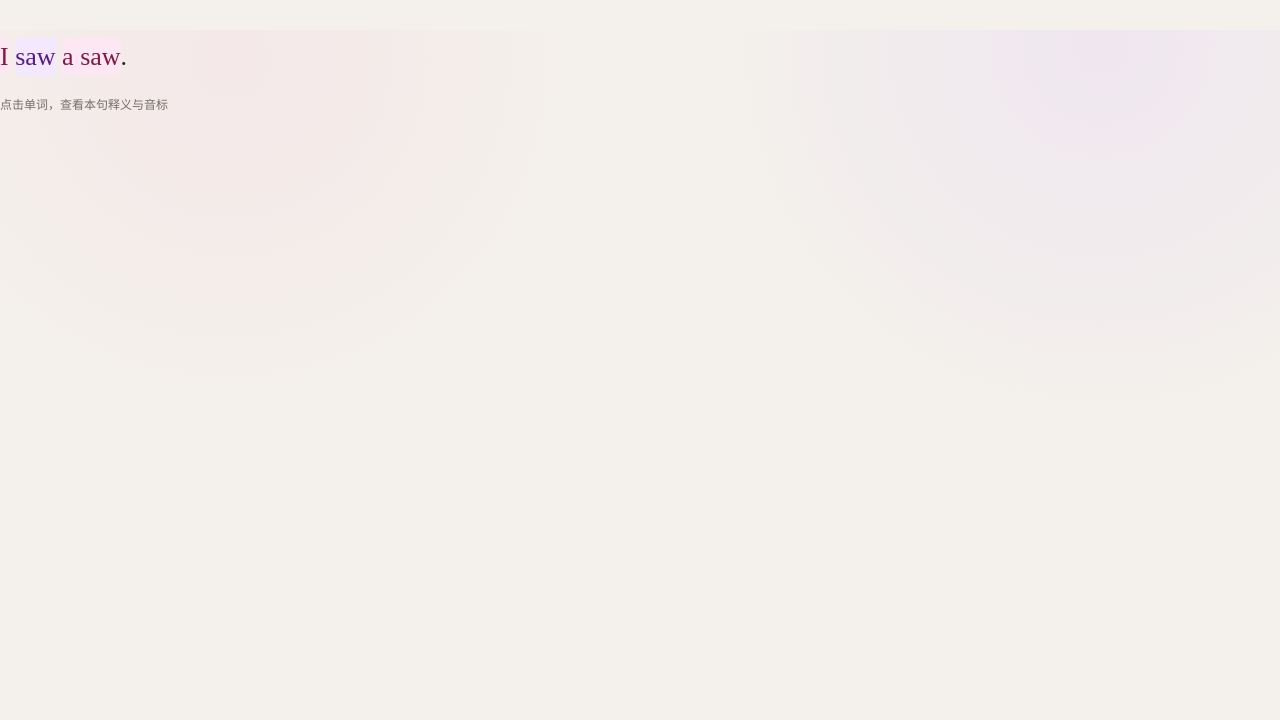
does not let stale A overwrite B or reopen a closed popover
Click the button with aria-label "查询 saw": coordinates (35, 57) [15,30,56,85]
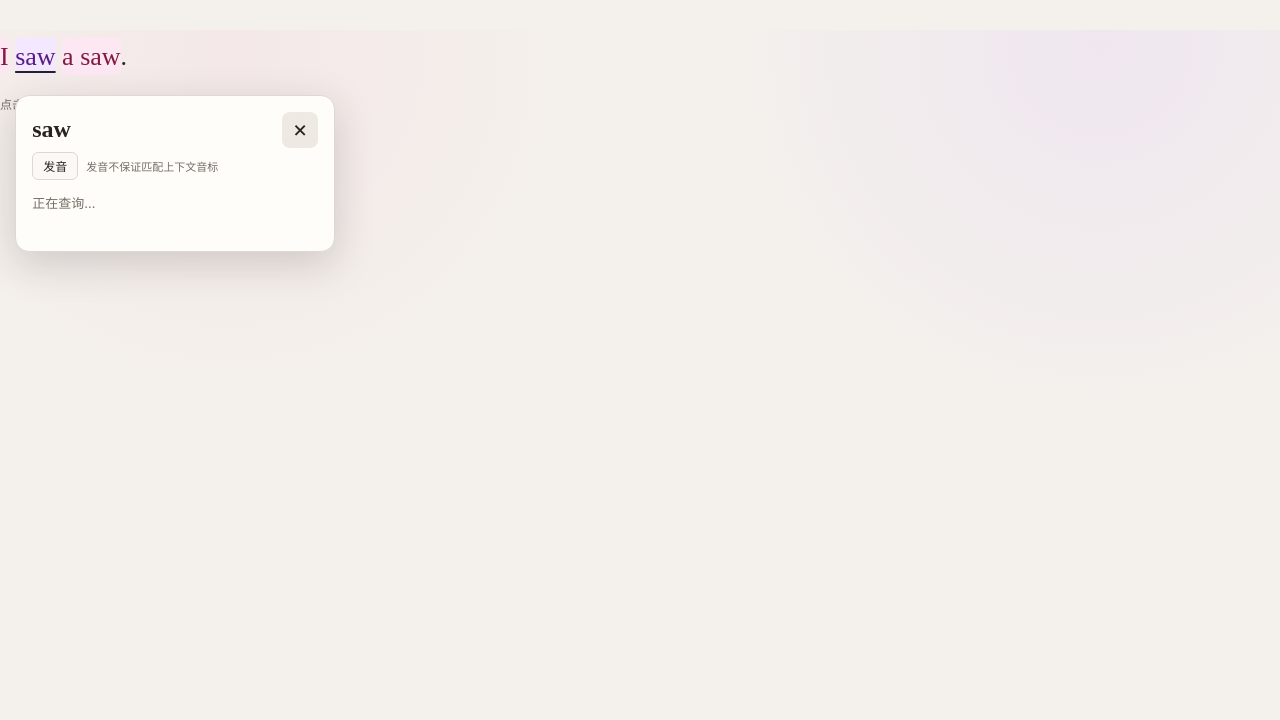
Click the button with aria-label "查询 saw": coordinates (100, 57) [80,30,121,85]
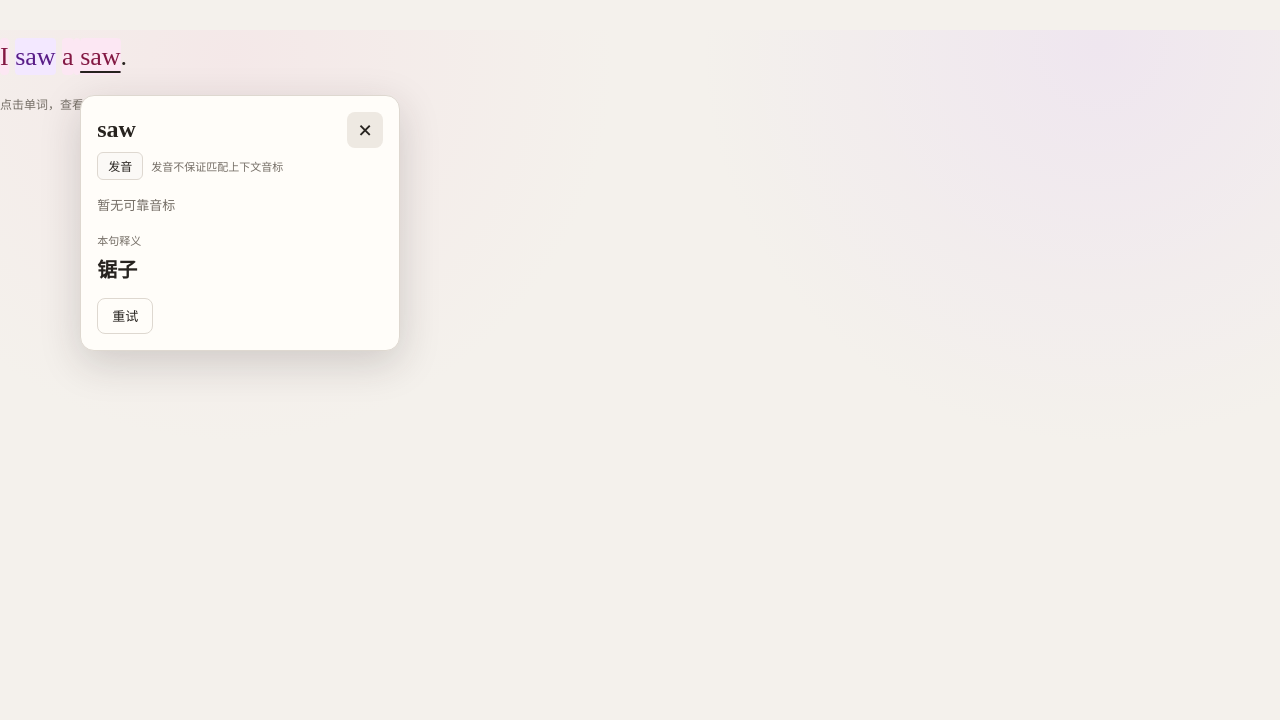
Now the text "锯子" is shown, box [97,258,137,282]
Click the button named "关闭查词": coordinates (365, 130) [347,112,383,148]
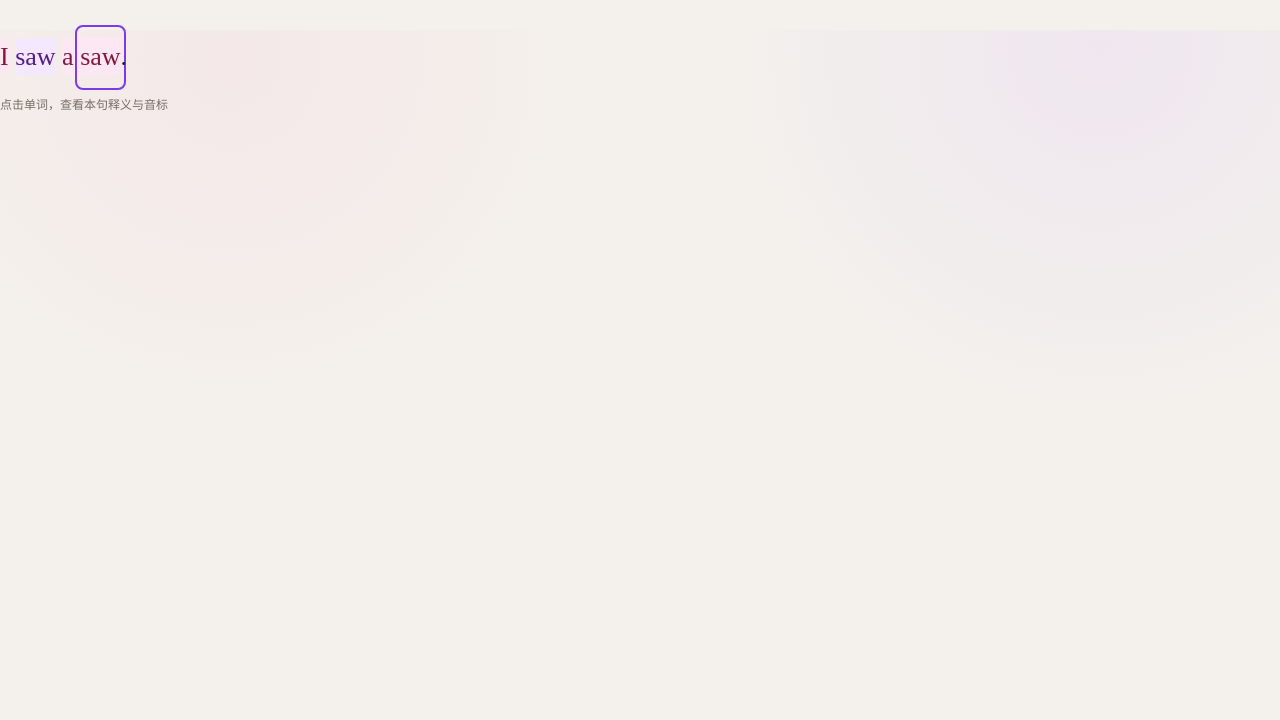
Click the button with aria-label "查询 saw": coordinates (35, 57) [15,30,56,85]
(page scrolled)
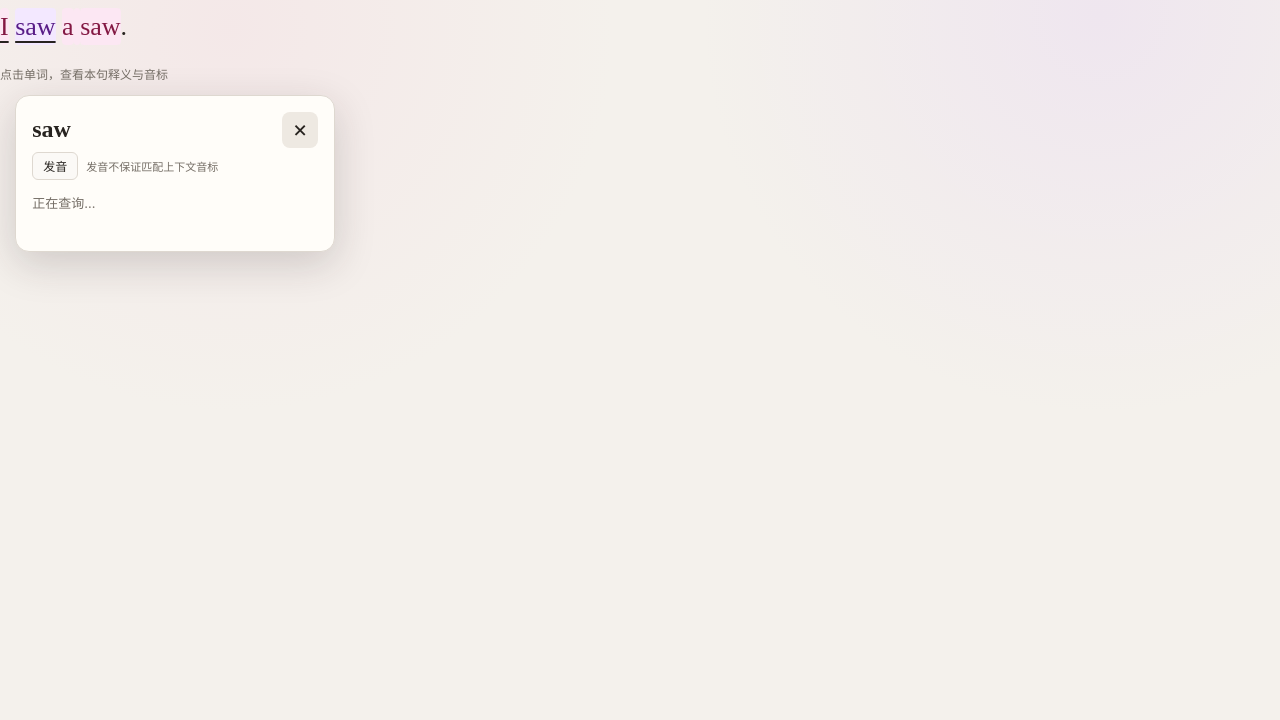
Press the mouse on the element showing "I saw a saw . 点击单词，查看本句释义与音标 saw × 发音 发音不保证匹配上下文音标 正在查询…": coordinates (640, 360) [0,0,1279,719]
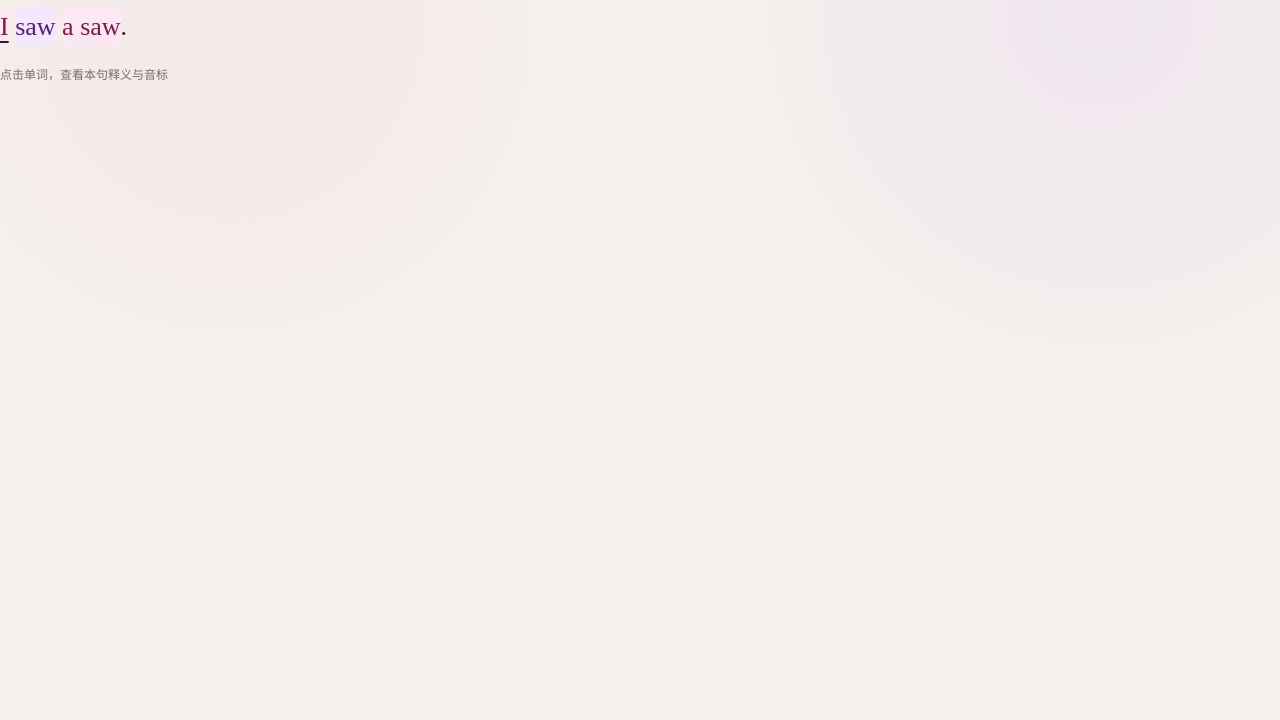
Now the dialog is gone
